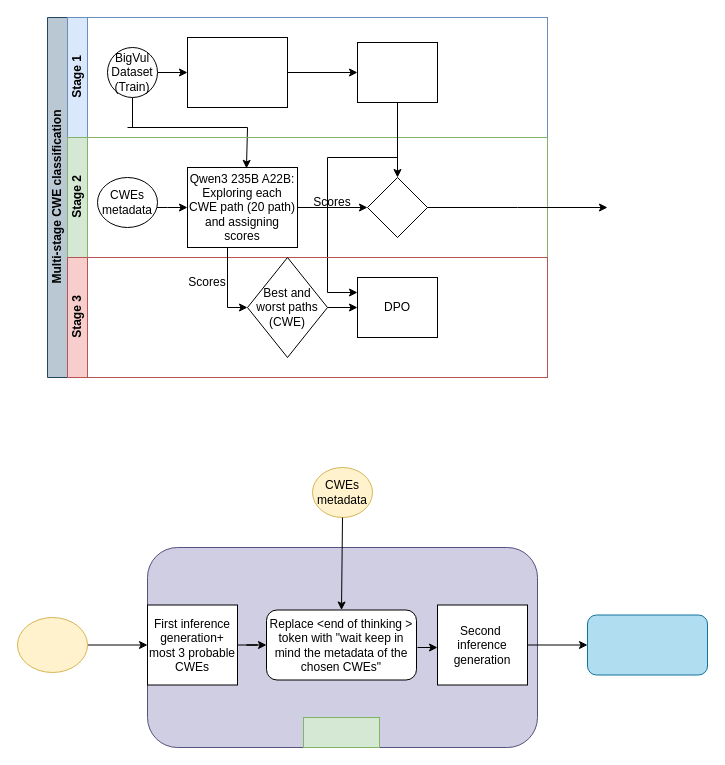
Some shapes in this 725 by 765 pixel diagram are drawn without their labels. The shapes that lost their labels are listed below. From the top down, each one's centre as x and y in pixels, then its label:
At (237,72): "Qwen3 235B A22B: explanation and cot".
At (397,72): "Qwen3 8B Finetuning+self consistency".
At (397,207): "TOP 3 CWEs".
At (52,644): "BigVul Dataset (Test)".
At (647,644): "final answer".
At (341,732): "Qwen3 8B Reasoning".
